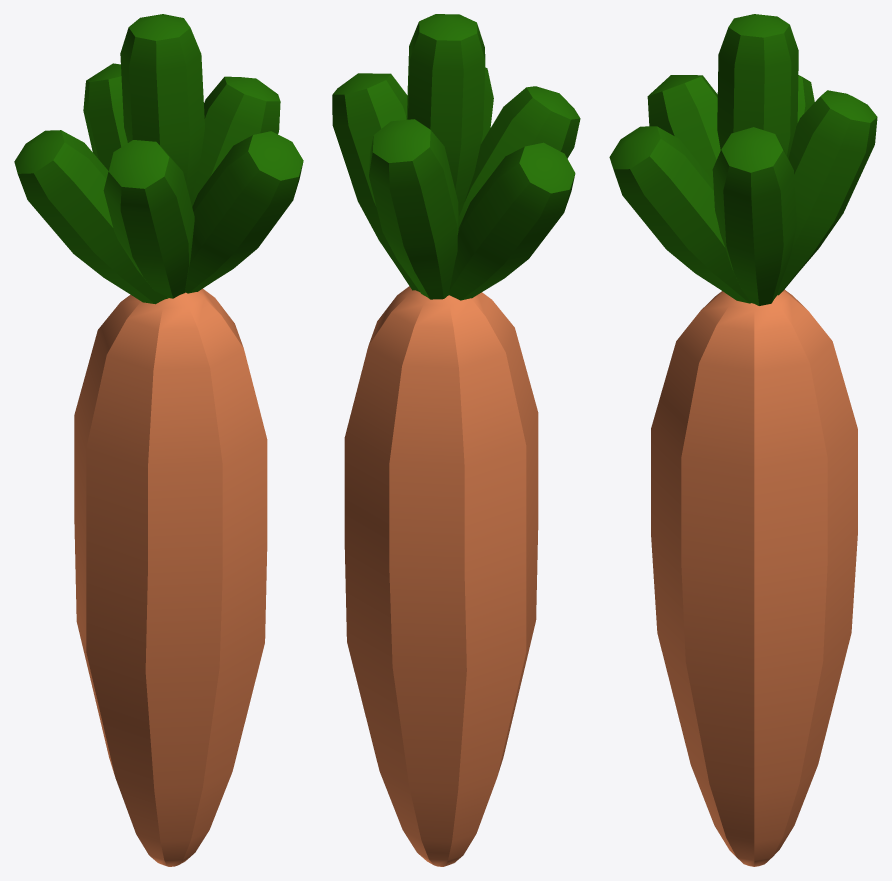
Rendered from Carrot.fbx.
3 renders of one model, left to right at view 1: azimuth 30°, elevation 25°; view 2: azimuth 150°, elevation 25°; view 3: azimuth 270°, elevation 25°, orthographic.
Parts seen in each view (by area): view 1: polySurface30; view 2: polySurface30; view 3: polySurface30.
Boxes of the visible parts, <box> form: polySurface30: <box>14,14,303,866</box>; polySurface30: <box>332,14,580,866</box>; polySurface30: <box>609,14,877,866</box>.
Bounding box in the file's own units: 1.15 × 3.78 × 1.09.
